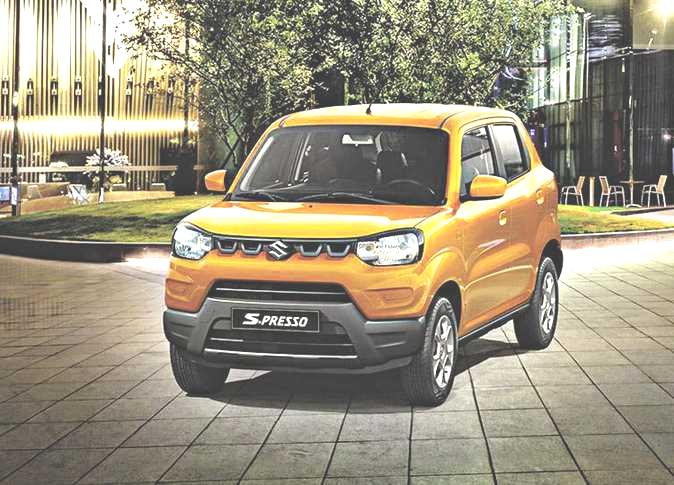suzuki: (263, 234, 294, 263)
